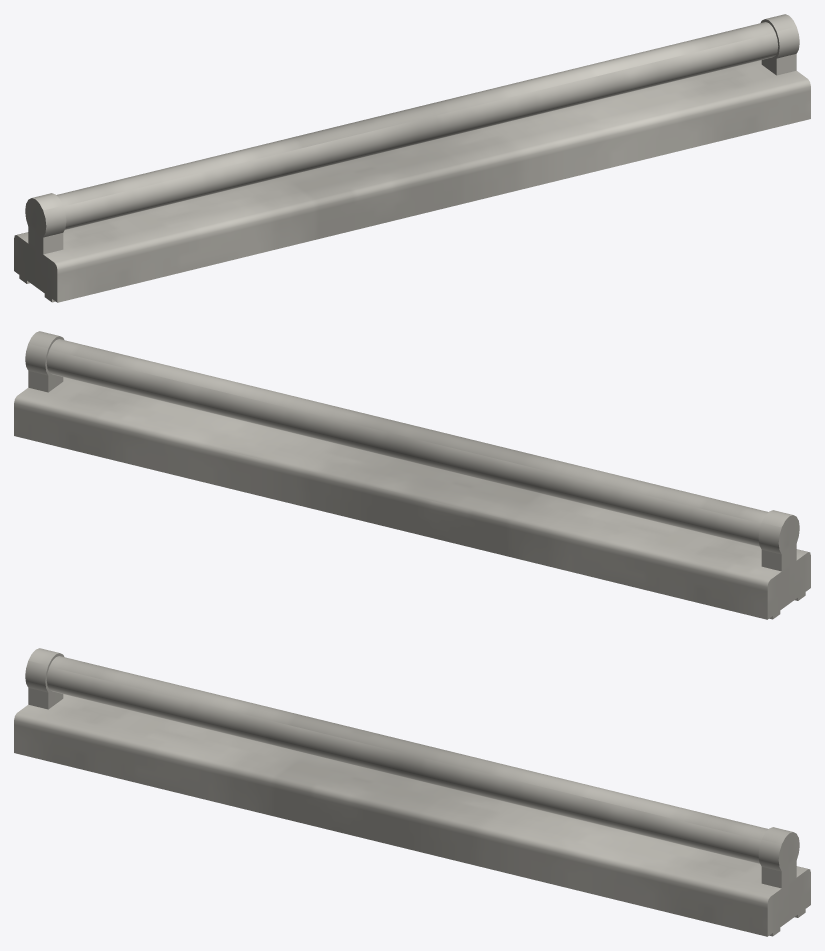
Rendered from tube_light.glb.
3 renders of one model, top to bottom at view 1: azimuth 30°, elevation 25°; view 2: azimuth 150°, elevation 25°; view 3: azimuth 330°, elevation 25°, orthographic.
Parts seen in each view (by area): view 1: tube_light, tube; view 2: tube_light, tube; view 3: tube_light, tube.
Boxes of the visible parts, <box> form: tube_light: <box>14,14,810,302</box>; tube: <box>56,22,778,229</box>; tube_light: <box>14,331,810,619</box>; tube: <box>46,339,768,546</box>; tube_light: <box>14,648,810,936</box>; tube: <box>46,656,768,863</box>.
Size of the model in its own units: 1.2 by 0.1387 by 0.12.
1 material, 1 textured.
